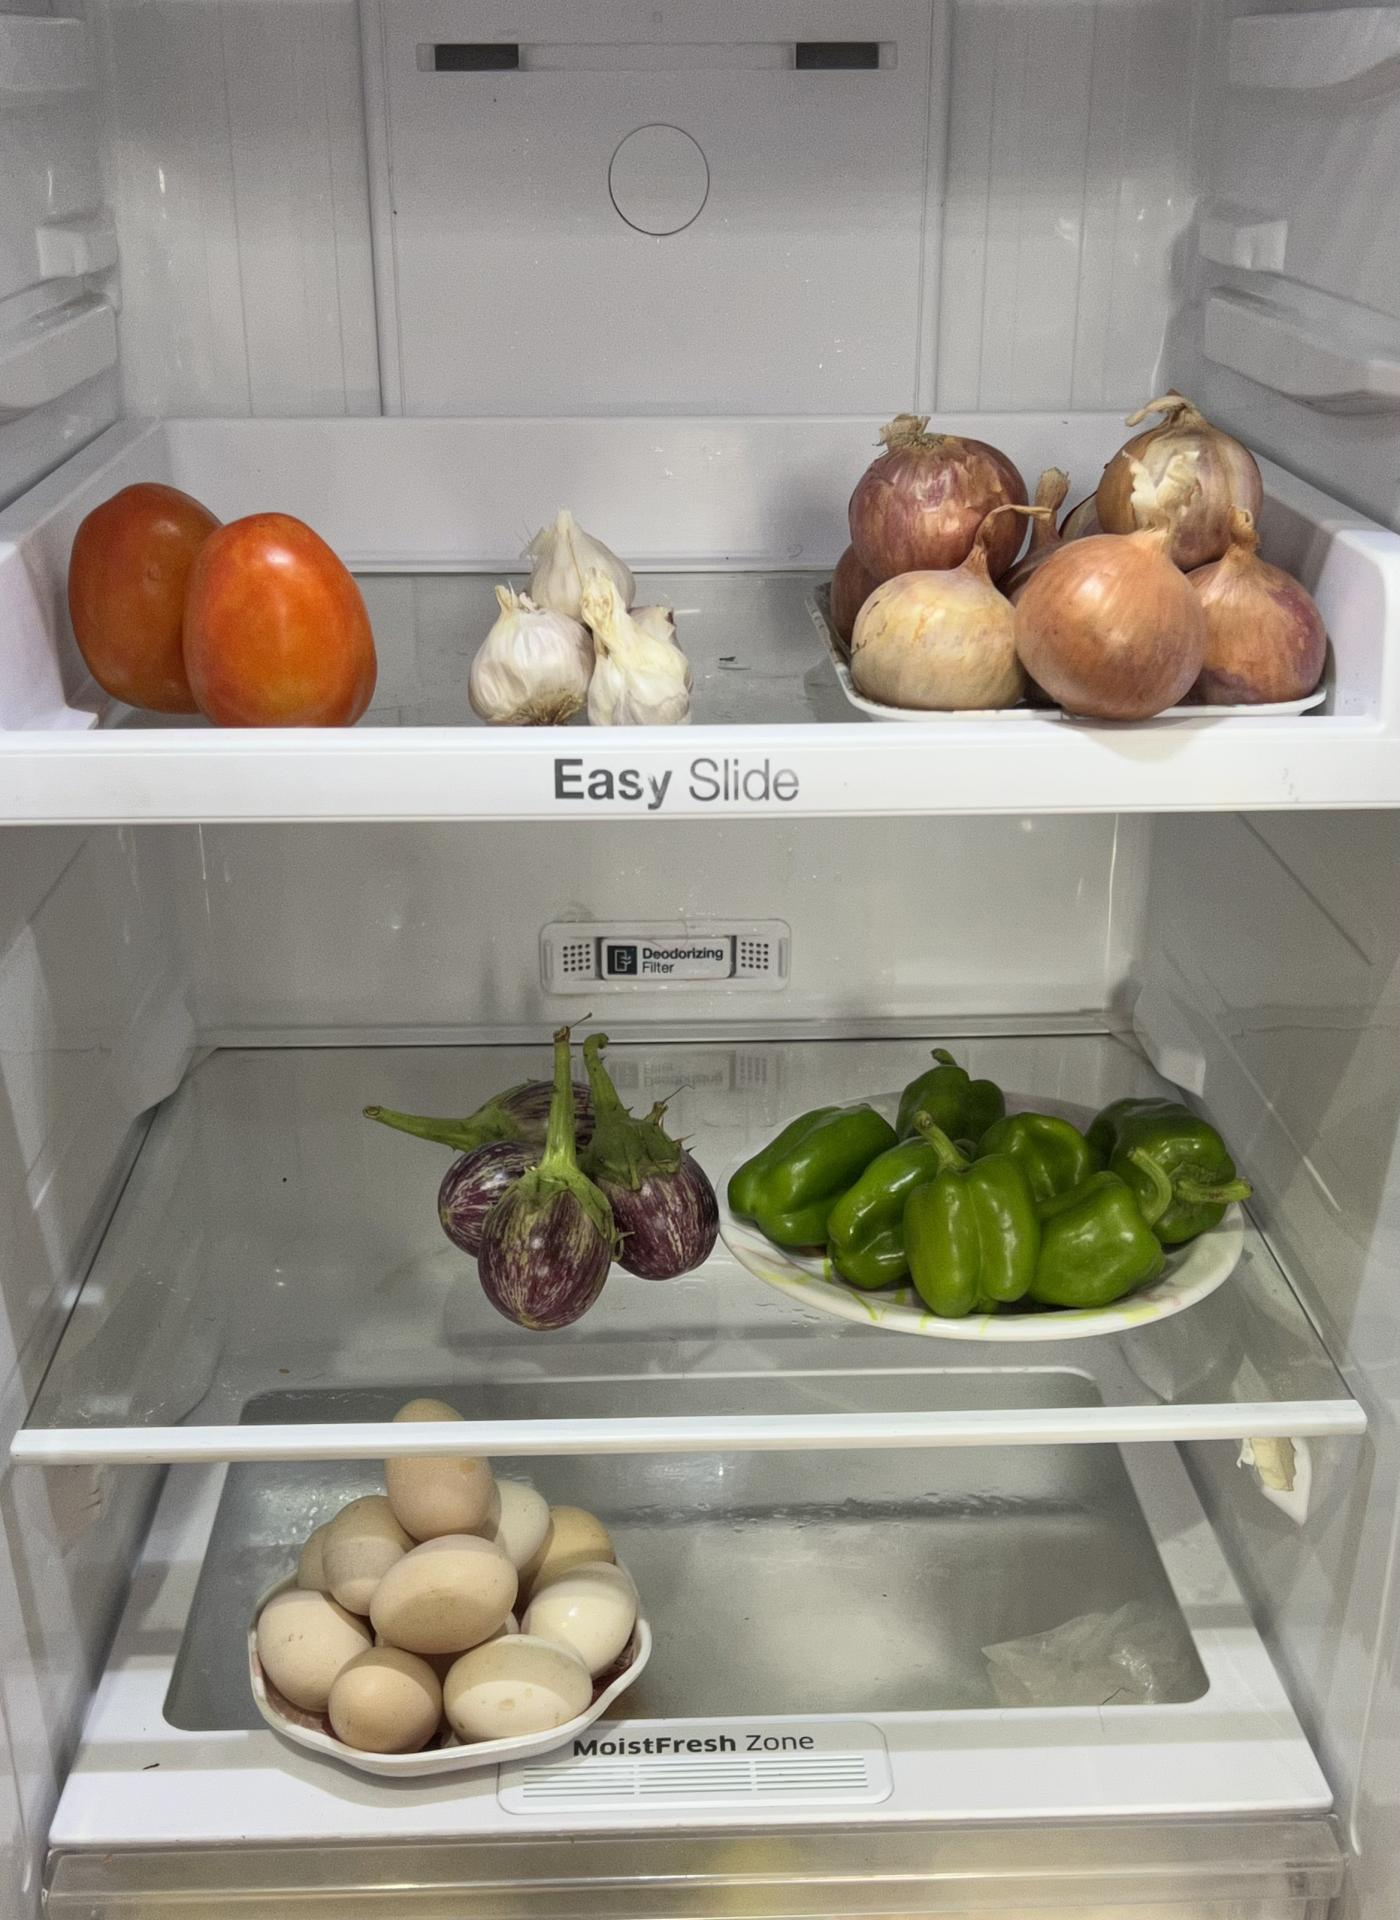capsicum: (726, 1058, 1278, 1322)
egg: (245, 1455, 649, 1758)
garlic: (470, 501, 705, 732)
onion: (829, 398, 1334, 717)
tomato: (64, 477, 377, 726)
